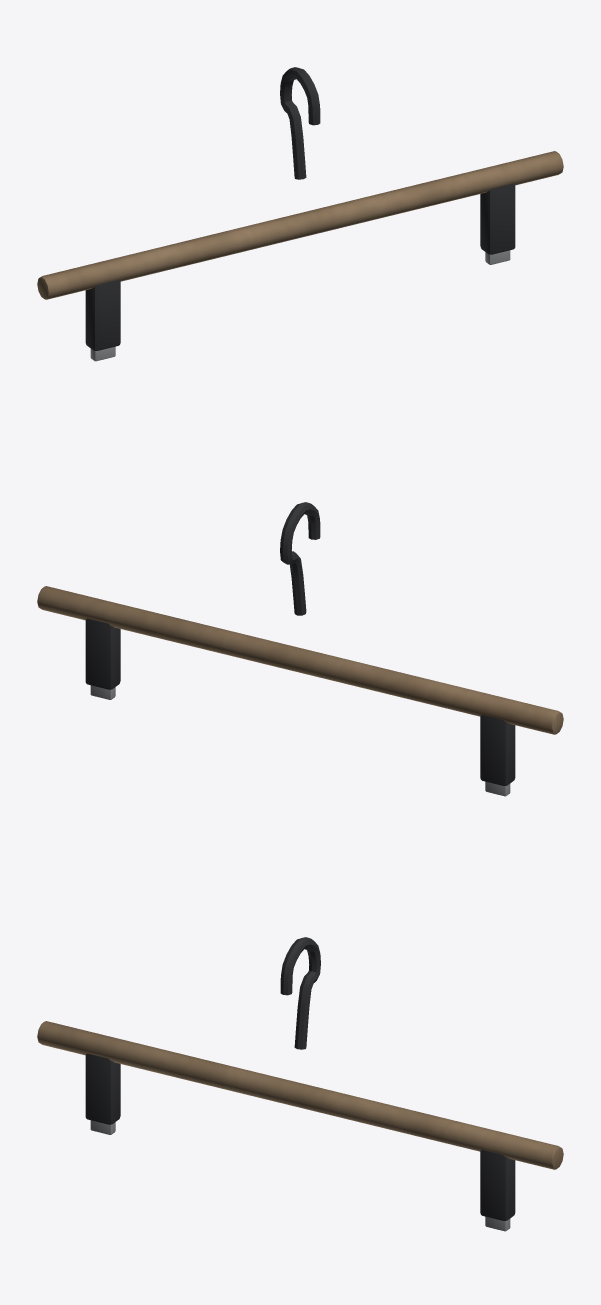
Rendered from pf_hanger_clip.glb.
3 views of the same model, one above another, from view 1: azimuth 30°, elevation 25°; view 2: azimuth 150°, elevation 25°; view 3: azimuth 330°, elevation 25° (orthographic).
Visible parts, largest first — view 1: pf_hanger_clip_body; view 2: pf_hanger_clip_body; view 3: pf_hanger_clip_body.
Part boxes in pixels (x1,y1,x2,y2): pf_hanger_clip_body: [37, 67, 563, 361]; pf_hanger_clip_body: [37, 502, 563, 796]; pf_hanger_clip_body: [37, 937, 563, 1231].
Bounding box in the file's own units: 0.36 × 0.1735 × 0.0397.
4 materials, 1 textured.
